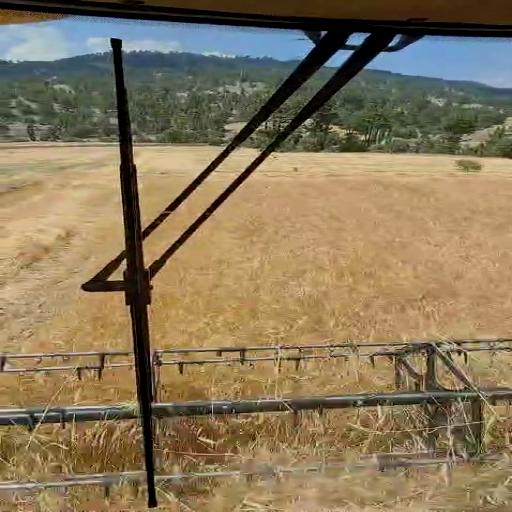bugday: (152, 154, 511, 346), (2, 148, 122, 274), (24, 291, 129, 351), (137, 147, 211, 219)
